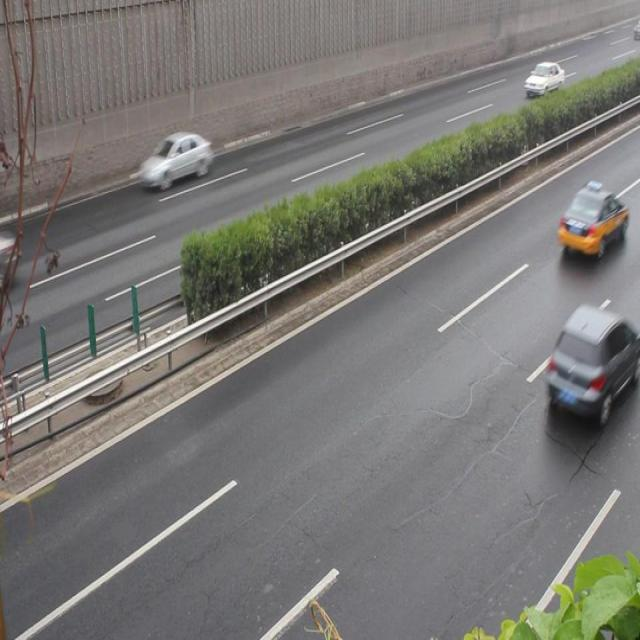car: (544, 304, 640, 419), (557, 185, 624, 258), (137, 131, 215, 191), (524, 60, 562, 101)
